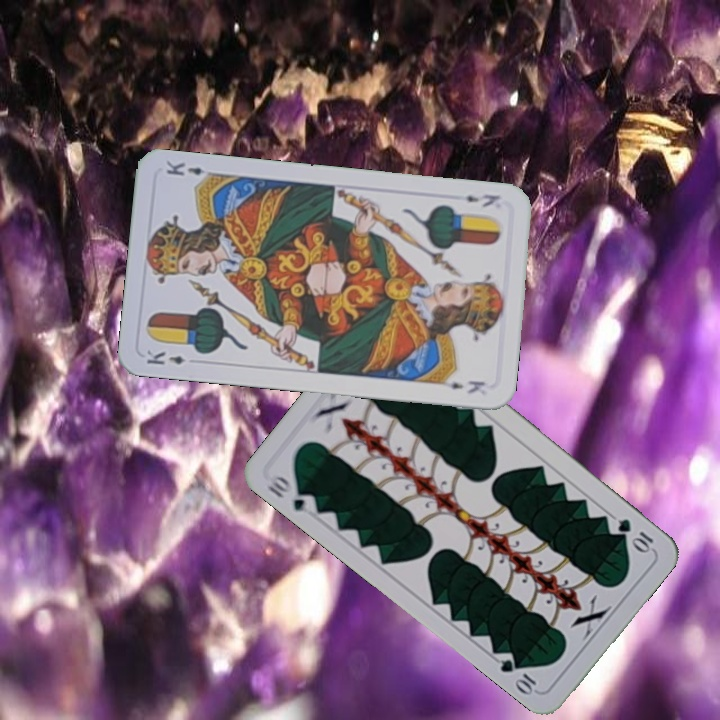EK: (449, 190, 503, 210), (142, 346, 187, 368)
G10: (263, 471, 320, 518), (613, 514, 656, 555)
